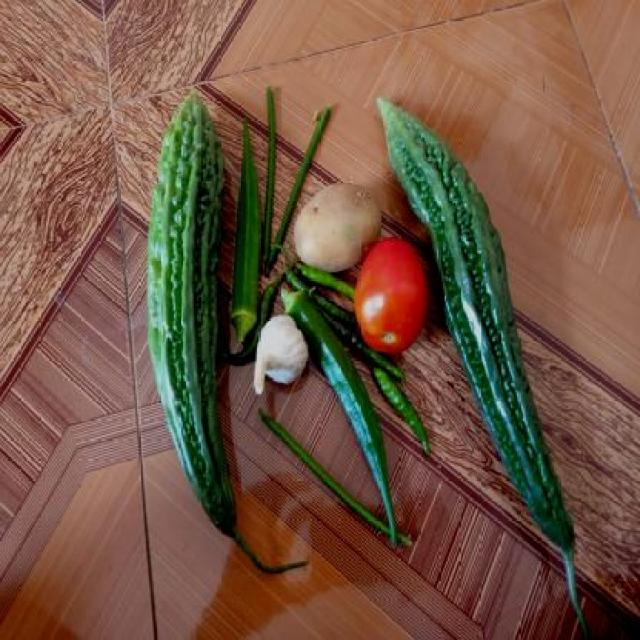Bitter melon: (426, 92, 620, 594), (151, 86, 234, 546)
Garlic: (252, 314, 318, 415)
Green Chili: (372, 363, 440, 455)
Lady finger: (228, 119, 264, 346)
Potato: (289, 175, 386, 271)
Tomato: (352, 237, 430, 355)
